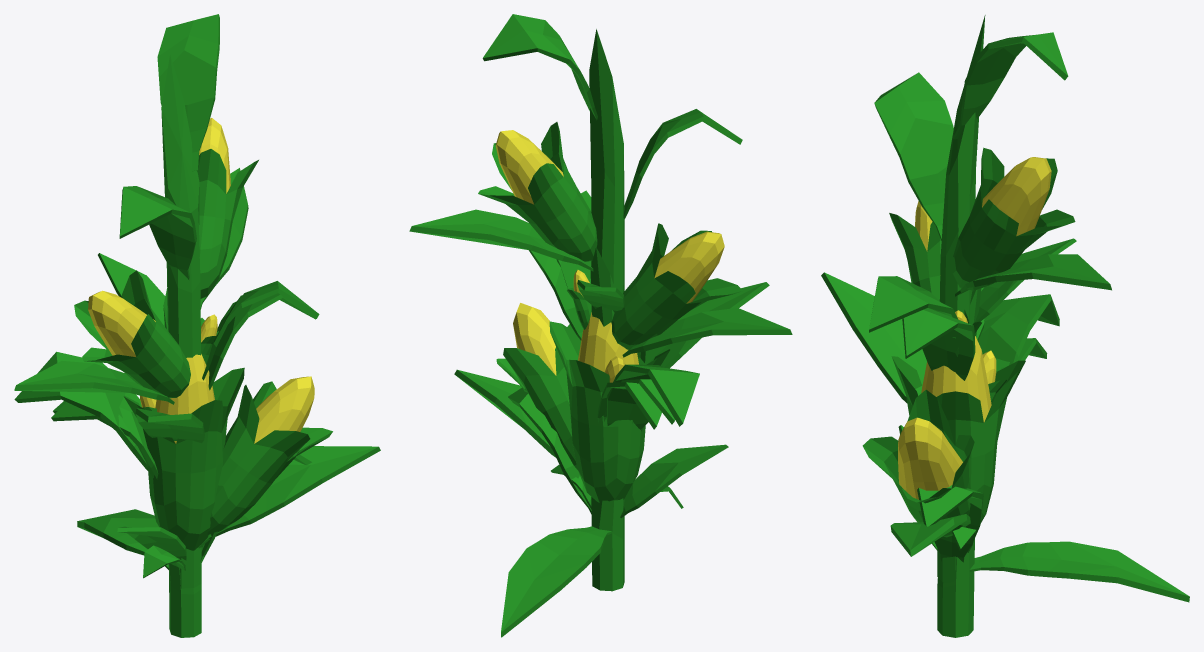
Rendered from Corn.fbx.
3 views of the same model, side by side, from view 1: azimuth 30°, elevation 25°; view 2: azimuth 150°, elevation 25°; view 3: azimuth 270°, elevation 25° (orthographic). The views are drawn at different scales.
Visible parts, largest first — view 1: Corn, Corn.005|Corn|Dupli|, Corn.003|Corn|Dupli|, Stalk.004|Stalk|Dupli|, Leaf01.013|Leaf01|Dupli|, Corn.004|Corn|Dupli|, Leaf02.006|Leaf02|Dupli|, Leaf01.011|Leaf01|Dupli|, Leaf02.005|Leaf02|Dupli|, Leaf01.004|Leaf01|Dupli|, Stalk, Leaf02 (+9 smaller); view 2: Corn, Corn.004|Corn|Dupli|, Corn.003|Corn|Dupli|, Stalk.004|Stalk|Dupli|, Leaf02, Corn.005|Corn|Dupli|, Leaf02.004|Leaf02|Dupli|, Leaf01.004|Leaf01|Dupli|, Leaf01.013|Leaf01|Dupli|, Leaf02.005|Leaf02|Dupli|, Stalk, Leaf02.001|Leaf02|Dupli| (+11 smaller); view 3: Corn.004|Corn|Dupli|, Corn.005|Corn|Dupli|, Corn, Leaf01.011|Leaf01|Dupli|, Leaf02, Stalk.004|Stalk|Dupli|, Leaf02.002|Leaf02|Dupli|, Leaf01.013|Leaf01|Dupli|, Leaf01.007|Leaf01|Dupli|, Leaf01.004|Leaf01|Dupli|, Leaf02.004|Leaf02|Dupli|, Corn.003|Corn|Dupli| (+6 smaller).
Boxes of the visible parts, bbox=[...] form: Corn: bbox=[123, 354, 244, 550]; Corn.005|Corn|Dupli|: bbox=[207, 376, 332, 534]; Corn.003|Corn|Dupli|: bbox=[74, 270, 190, 398]; Stalk.004|Stalk|Dupli|: bbox=[161, 54, 201, 588]; Leaf01.013|Leaf01|Dupli|: bbox=[157, 14, 219, 171]; Corn.004|Corn|Dupli|: bbox=[162, 118, 258, 298]; Leaf02.006|Leaf02|Dupli|: bbox=[198, 446, 380, 548]; Leaf01.011|Leaf01|Dupli|: bbox=[119, 186, 196, 279]; Leaf02.005|Leaf02|Dupli|: bbox=[14, 361, 174, 404]; Leaf01.004|Leaf01|Dupli|: bbox=[14, 351, 149, 472]; Stalk: bbox=[168, 557, 201, 637]; Leaf02: bbox=[77, 509, 168, 569]; Corn: bbox=[549, 312, 669, 502]; Corn.004|Corn|Dupli|: bbox=[478, 122, 597, 261]; Corn.003|Corn|Dupli|: bbox=[611, 223, 742, 349]; Stalk.004|Stalk|Dupli|: bbox=[589, 29, 624, 311]; Leaf02: bbox=[501, 526, 612, 637]; Corn.005|Corn|Dupli|: bbox=[496, 303, 577, 469]; Leaf02.004|Leaf02|Dupli|: bbox=[409, 209, 593, 271]; Leaf01.004|Leaf01|Dupli|: bbox=[606, 364, 699, 429]; Leaf01.013|Leaf01|Dupli|: bbox=[482, 14, 597, 119]; Leaf02.005|Leaf02|Dupli|: bbox=[622, 308, 792, 357]; Stalk: bbox=[591, 497, 624, 591]; Leaf02.001|Leaf02|Dupli|: bbox=[620, 444, 728, 518]; Corn.004|Corn|Dupli|: bbox=[952, 147, 1075, 290]; Corn.005|Corn|Dupli|: bbox=[862, 389, 974, 537]; Corn: bbox=[891, 336, 1025, 523]; Leaf01.011|Leaf01|Dupli|: bbox=[874, 72, 953, 240]; Leaf02: bbox=[969, 541, 1189, 602]; Stalk.004|Stalk|Dupli|: bbox=[937, 15, 985, 583]; Leaf02.002|Leaf02|Dupli|: bbox=[821, 272, 926, 402]; Leaf01.013|Leaf01|Dupli|: bbox=[953, 32, 1068, 139]; Leaf01.007|Leaf01|Dupli|: bbox=[902, 308, 975, 380]; Leaf01.004|Leaf01|Dupli|: bbox=[978, 294, 1059, 364]; Leaf02.004|Leaf02|Dupli|: bbox=[955, 254, 1111, 296]; Corn.003|Corn|Dupli|: bbox=[889, 201, 941, 300].
Bounding box in the file's own units: 463 × 726 × 387.
